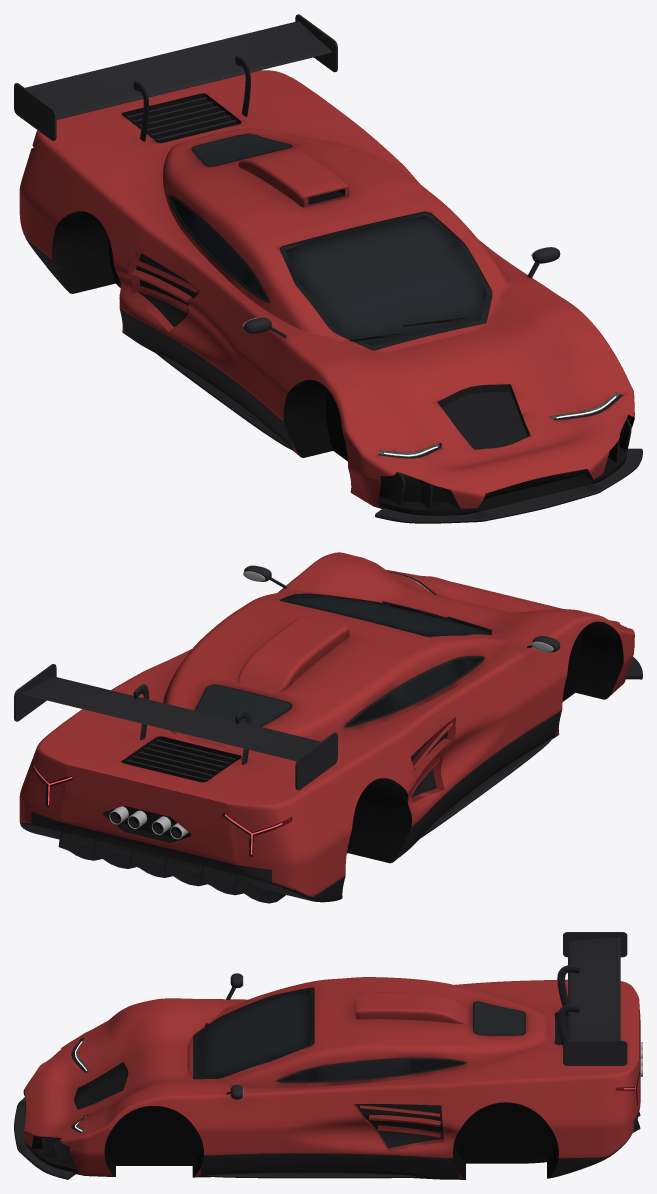
The model's file is razor.glb.
3 views of the same model, one above another, from view 1: azimuth 30°, elevation 25°; view 2: azimuth 150°, elevation 25°; view 3: azimuth 270°, elevation 25° (orthographic). The views are drawn at different scales.
Parts seen in each view (by area): view 1: paint, carbon, window, trim, grille, glass; view 2: paint, carbon, trim, window, glass, grille, chrome; view 3: paint, carbon, trim, window, grille, glass.
Part boxes in pixels (x1,y1,x2,y2): paint: (19,70,634,508); carbon: (14,14,642,523); window: (172,198,486,346); trim: (31,93,634,510); grille: (125,100,582,501); glass: (193,134,289,165); paint: (19,552,634,896); carbon: (14,565,642,903); trim: (31,571,623,863); window: (286,595,485,724); glass: (196,685,289,726); grille: (109,731,447,838); chrome: (109,571,553,839); paint: (23,977,640,1179); carbon: (14,932,640,1179); trim: (23,987,639,1179); window: (198,990,462,1080); grille: (57,1016,567,1148); glass: (475,1002,523,1034).
Size of what is drawn, in the model's own units: 2.22 by 1.23 by 4.86.
